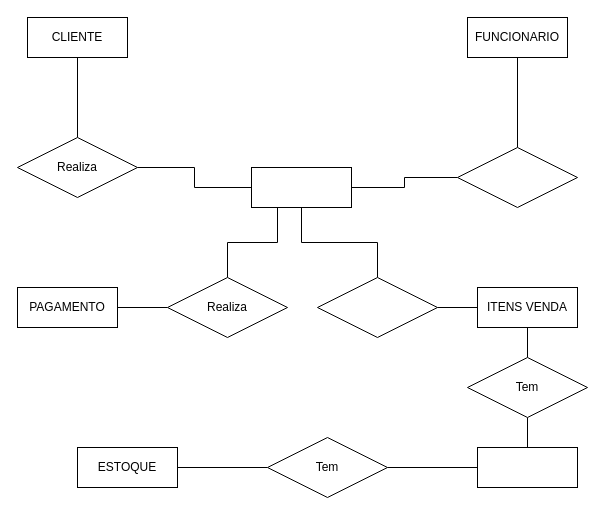
Image size: 605x515. Some labels were removed from this diagram. The shapes that lost their labels are listed below. From the top down, each one's centre as x and y in pixels, then its label:
At pixel 301 187: "VENDA".
At pixel 517 177: "Paticipa".
At pixel 377 307: "Detalha".
At pixel 527 467: "PRODUTO".
